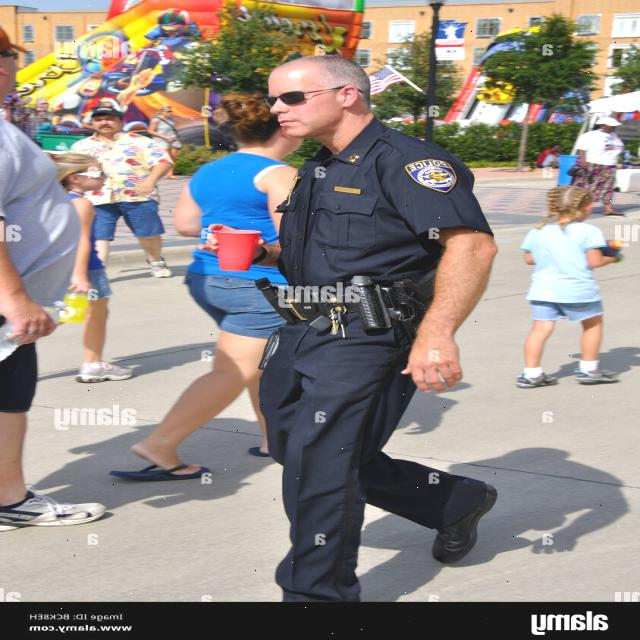police: (203, 34, 532, 593)
